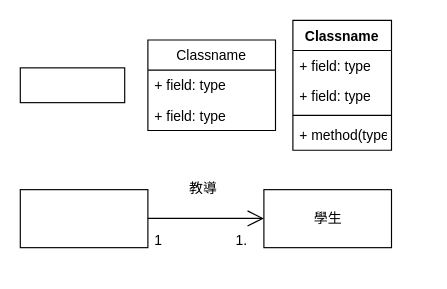
Some shapes in this 447 by 289 pixel diagram are drawn without their labels. The shapes that lost their labels are listed below. From the top down, each one's centre as x and y in pixels, then its label:
At (72,85): "Object".
At (83,218): "老師".
